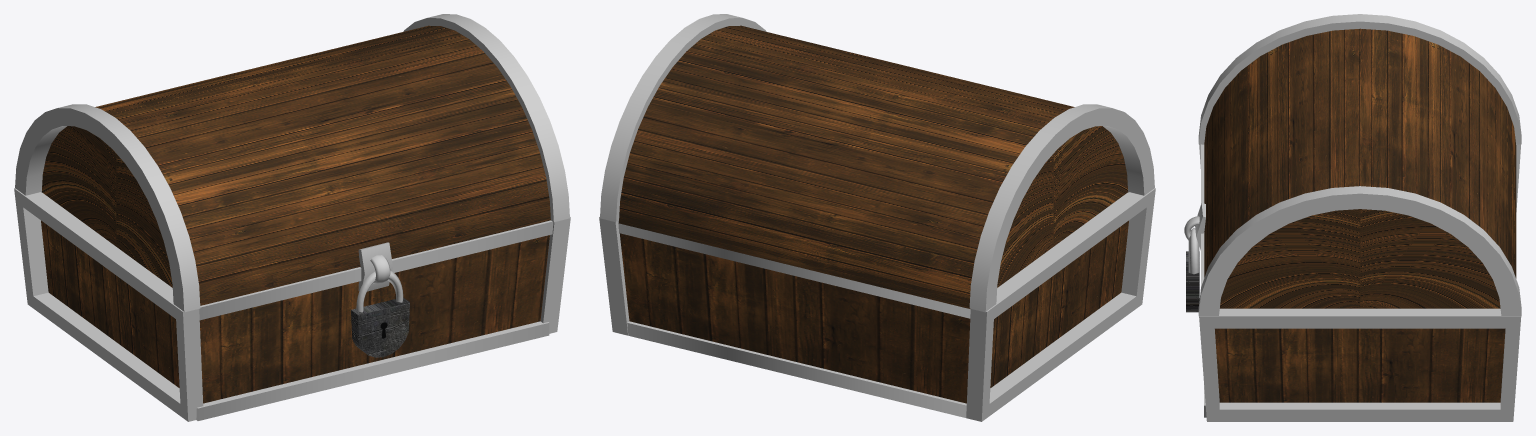
Rendered from chest_normal.FBX.
The picture shows the model from 3 angles, left to right: view 1: azimuth 30°, elevation 25°; view 2: azimuth 150°, elevation 25°; view 3: azimuth 270°, elevation 25°; orthographic projection. The views are drawn at different scales.
Parts seen in each view (by area): view 1: Cylinder01, Box02, Box03, Cylinder02, Rectangle01, Cylinder03, Rectangle02, Cylinder04, Box04, Box05, Arc01; view 2: Cylinder01, Box02, Box03, Cylinder02, Cylinder03, Rectangle01, Rectangle02, Box04; view 3: Cylinder01, Box02, Box04, Cylinder03, Cylinder02, Cylinder04, Arc01, Rectangle02.
Boxes of the visible parts, bbox=[...] form: Cylinder01: bbox=[42, 25, 550, 305]; Box02: bbox=[41, 220, 549, 403]; Box03: bbox=[14, 188, 203, 421]; Cylinder02: bbox=[15, 104, 200, 312]; Rectangle01: bbox=[196, 321, 549, 420]; Cylinder03: bbox=[403, 14, 569, 221]; Rectangle02: bbox=[42, 192, 553, 320]; Cylinder04: bbox=[351, 297, 409, 357]; Box04: bbox=[540, 217, 570, 333]; Box05: bbox=[358, 242, 392, 291]; Arc01: bbox=[356, 271, 403, 312]; Cylinder01: bbox=[619, 25, 1127, 308]; Box02: bbox=[619, 220, 1128, 403]; Box03: bbox=[966, 188, 1155, 421]; Cylinder02: bbox=[969, 104, 1154, 312]; Cylinder03: bbox=[600, 14, 766, 222]; Rectangle01: bbox=[627, 321, 966, 417]; Rectangle02: bbox=[618, 192, 1127, 318]; Box04: bbox=[599, 217, 629, 335]; Cylinder01: bbox=[1204, 28, 1516, 308]; Box02: bbox=[1215, 328, 1505, 402]; Box04: bbox=[1199, 308, 1521, 421]; Cylinder03: bbox=[1198, 186, 1521, 315]; Cylinder02: bbox=[1198, 14, 1521, 144]; Cylinder04: bbox=[1186, 251, 1199, 312]; Arc01: bbox=[1188, 227, 1199, 274]; Rectangle02: bbox=[1201, 144, 1204, 286].
Bounding box in the file's own units: 85.86 × 51.5 × 67.8.
